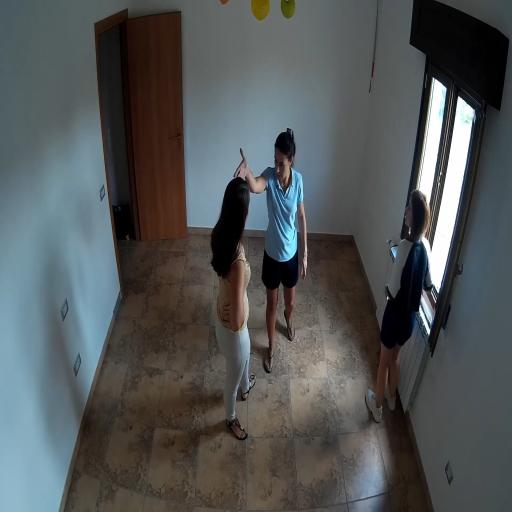nao-violencia: (202, 114, 316, 451)
